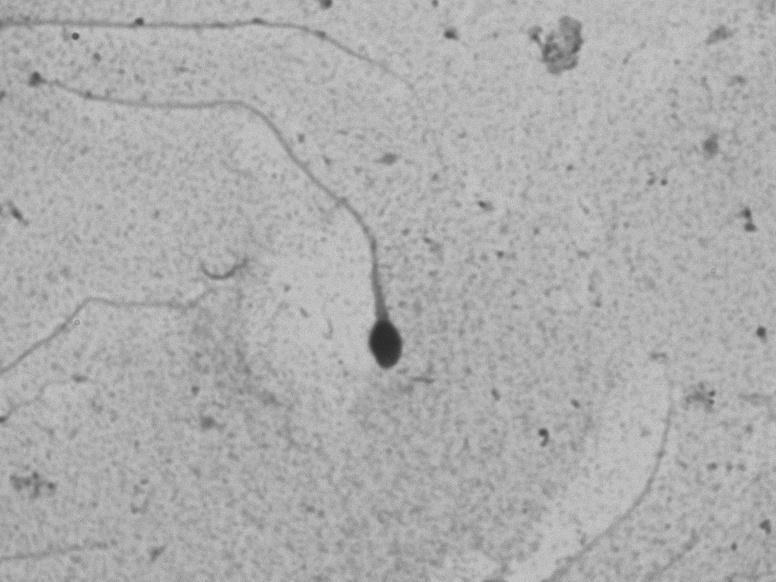Abnormal: (55, 69, 439, 422)
